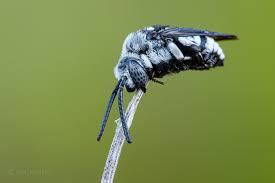Thyreus: (90, 19, 237, 147)
